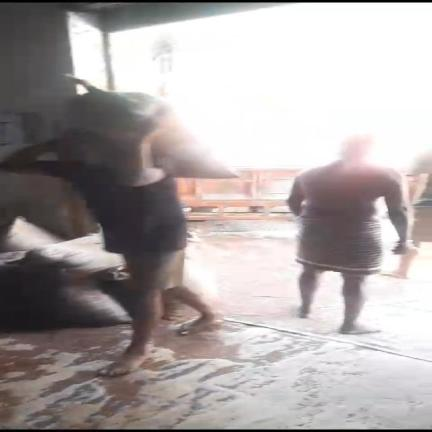Zone-Counting: (0, 77, 237, 375)
